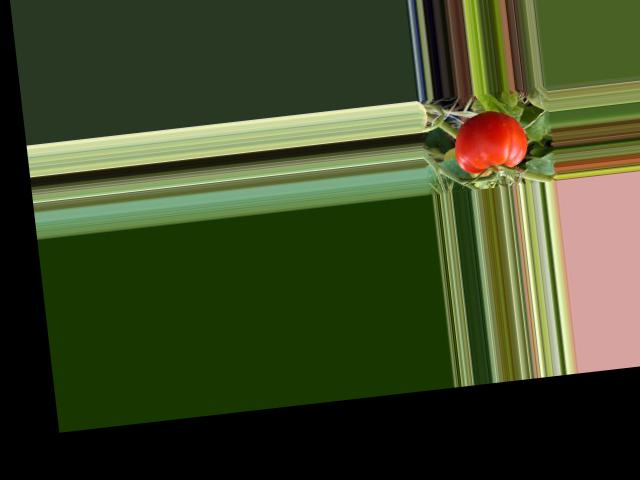tomato: (450, 107, 529, 175)
